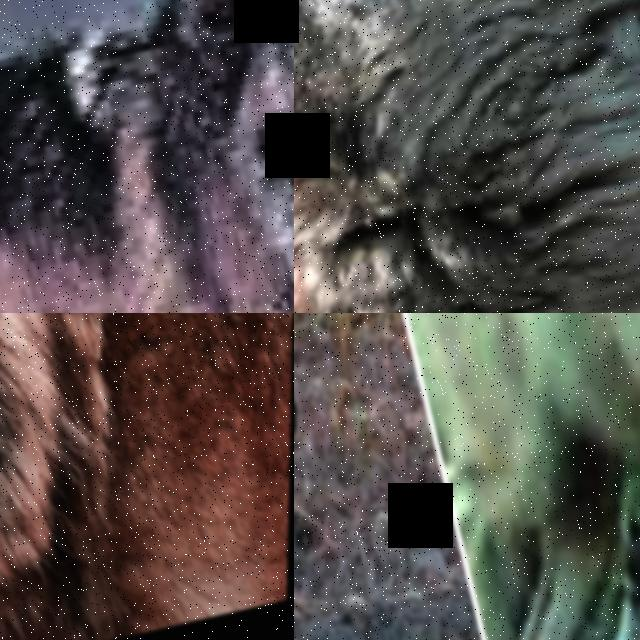wolf: (308, 313, 640, 640), (294, 0, 640, 313), (0, 313, 294, 640), (0, 0, 294, 313), (294, 313, 458, 640)
